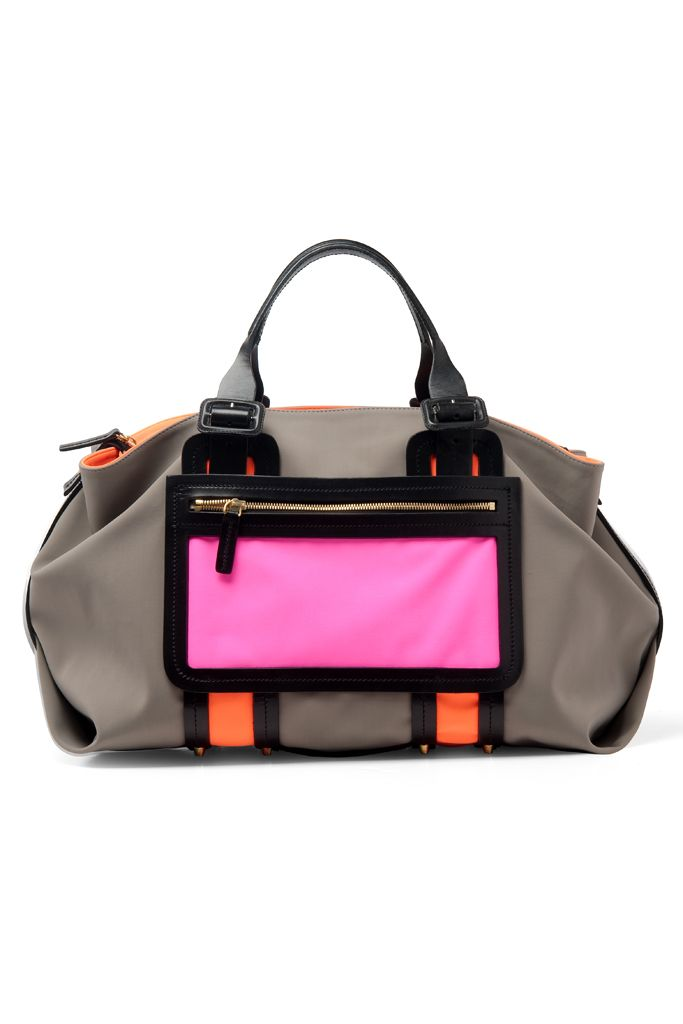nylon: (24, 403, 663, 760)
